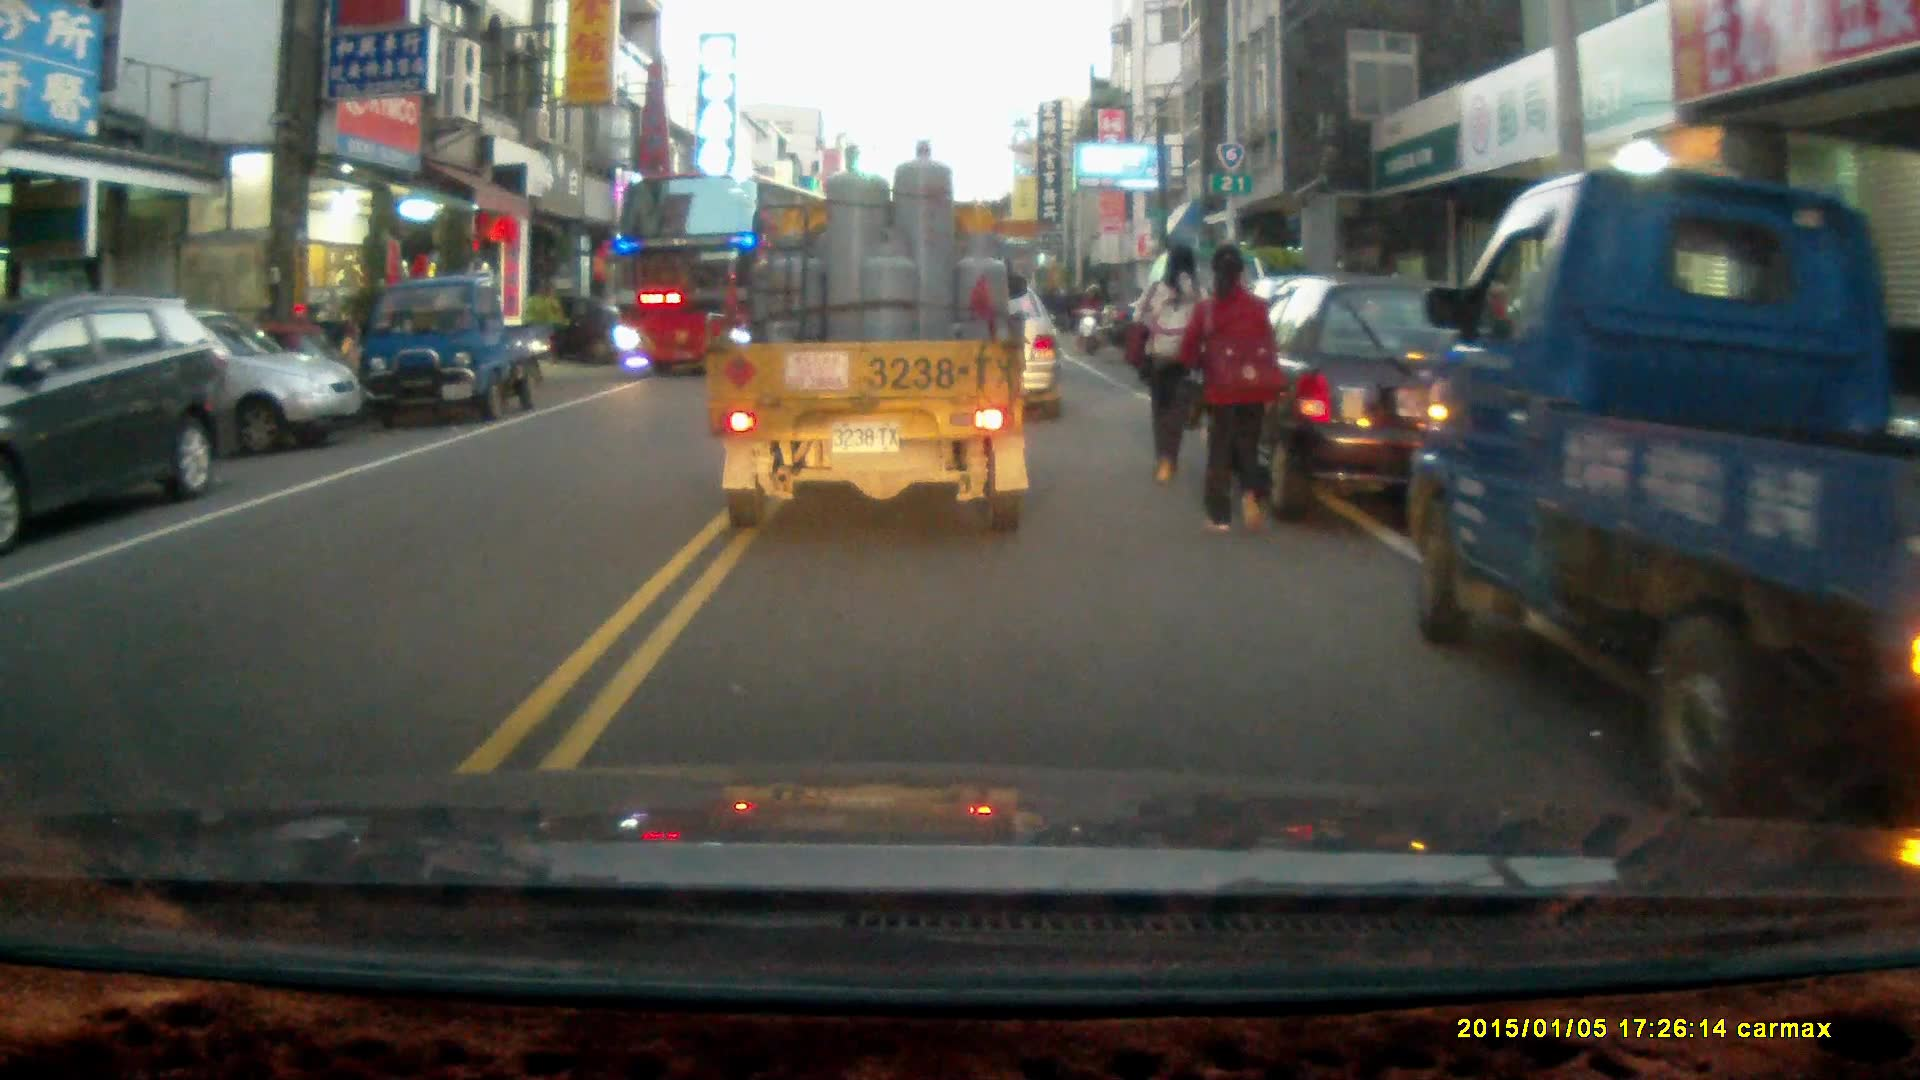pedestrian: (1176, 245, 1289, 541), (1126, 240, 1211, 485)
rider: (1076, 280, 1112, 354)
vehicle: (1405, 161, 1920, 817), (707, 134, 1038, 538), (1227, 277, 1550, 536), (1, 286, 240, 539), (612, 167, 864, 380), (26, 303, 354, 461), (357, 276, 547, 420)
